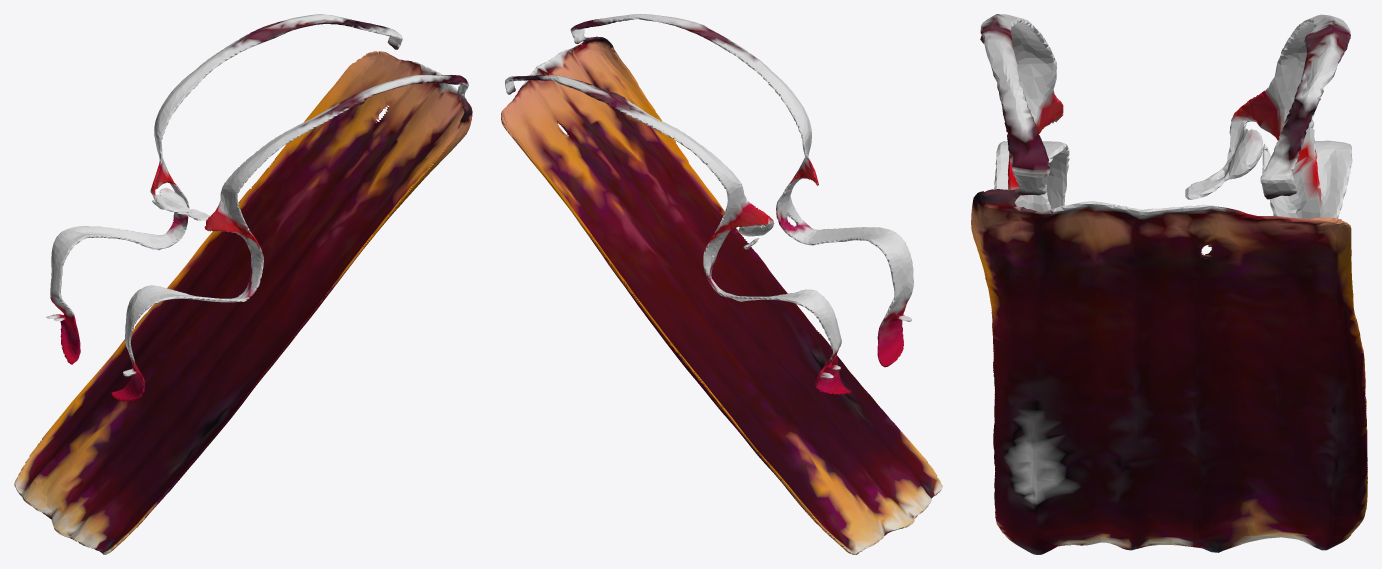
Rendered from fishing_pole2.glb.
3 views of the same model, side by side, from view 1: azimuth 30°, elevation 25°; view 2: azimuth 150°, elevation 25°; view 3: azimuth 270°, elevation 25° (orthographic). The views are drawn at different scales.
Parts seen in each view (by area): view 1: geometry_0; view 2: geometry_0; view 3: geometry_0.
Boxes of the visible parts, x1,y1,x2,y2 form: geometry_0: [14, 14, 472, 554]; geometry_0: [501, 14, 942, 554]; geometry_0: [971, 14, 1367, 554].
Bounding box in the file's own units: 0.875 × 0.9053 × 0.4361.
